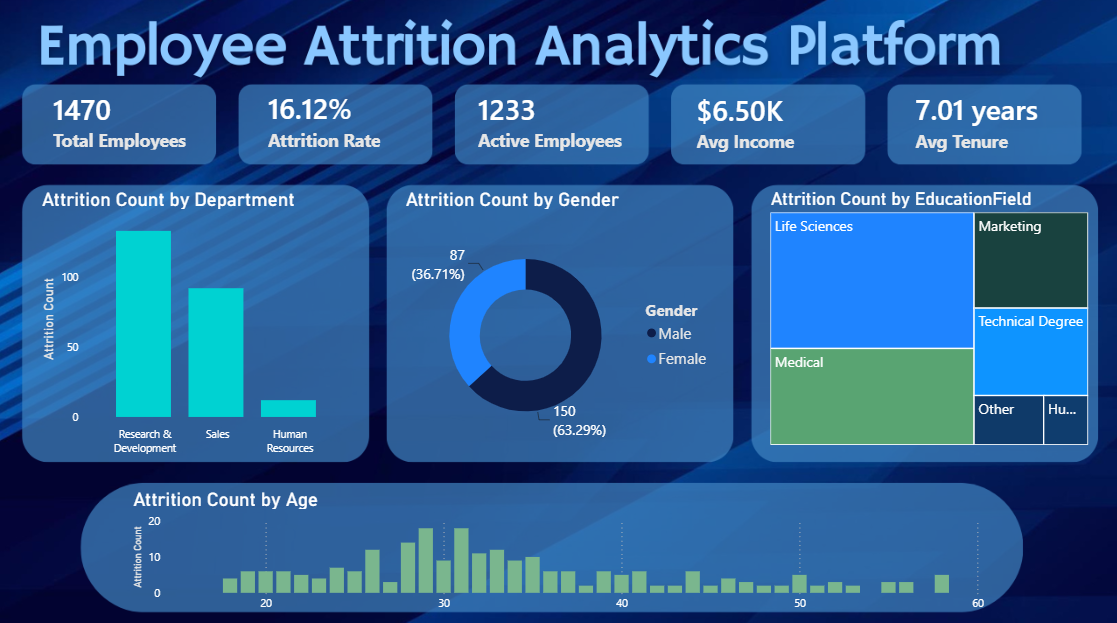

What the dashboard file says about the page in this screenshot:
{"tool":"powerbi","page":{"name":"Overview","canvas":[1280,720],"ordinal":0},"visuals":[{"type":"cardVisual","fields":{"Data":["ibm_data dim_employee.Total Employees"]},"box":[31.4,88.6,245.7,102.9],"z":0},{"type":"cardVisual","fields":{"Data":["ibm_data dim_employee.Active Employees"]},"box":[517.1,30,325.7,221.4],"z":1000},{"type":"cardVisual","fields":{"Data":["ibm_data dim_employee.Attrition Rate"]},"box":[277.1,25.7,337.1,228.6],"z":2000},{"type":"cardVisual","fields":{"Data":["ibm_data dim_employee.Avg Income"]},"box":[767.1,38.6,334.3,205.7],"z":3000},{"type":"donutChart","fields":{"Category":["ibm_data dim_employee.Gender"],"Y":["ibm_data dim_employee.Attrition Count"]},"box":[458.6,217.1,364.3,312.9],"z":4000},{"type":"clusteredColumnChart","fields":{"Category":["ibm_data dim_job_role.Department"],"Y":["ibm_data dim_employee.Attrition Count"]},"box":[42.9,217.1,360,312.9],"z":5000},{"type":"cardVisual","fields":{"Data":["ibm_data dim_employee.Avg Tenure"]},"box":[1017.1,37.1,231.4,207.1],"z":6000},{"type":"treemap","fields":{"Group":["ibm_data dim_employee.EducationField"],"Values":["ibm_data dim_employee.Attrition Count"]},"box":[875.7,217.1,372.9,298.6],"z":7000},{"type":"clusteredColumnChart","fields":{"Category":["ibm_data dim_employee.Age"],"Y":["ibm_data dim_employee.Attrition Count"]},"box":[147.1,560,984.3,150],"z":8000}]}

Visuals, with their boxes in screenshot pixels (x1, y1, x2, y2), scaled from the page's 1280x720 canvas onto the 1117x623 screenshot:
cardVisual - ibm_data dim_employee.Total Employees: pyautogui.locateOnScreen(27, 77, 242, 166)
cardVisual - ibm_data dim_employee.Active Employees: pyautogui.locateOnScreen(451, 26, 735, 218)
cardVisual - ibm_data dim_employee.Attrition Rate: pyautogui.locateOnScreen(242, 22, 536, 220)
cardVisual - ibm_data dim_employee.Avg Income: pyautogui.locateOnScreen(669, 33, 961, 211)
donutChart - ibm_data dim_employee.Gender x ibm_data dim_employee.Attrition Count: pyautogui.locateOnScreen(400, 188, 718, 459)
clusteredColumnChart - ibm_data dim_job_role.Department x ibm_data dim_employee.Attrition Count: pyautogui.locateOnScreen(37, 188, 352, 459)
cardVisual - ibm_data dim_employee.Avg Tenure: pyautogui.locateOnScreen(888, 32, 1090, 211)
treemap - ibm_data dim_employee.EducationField x ibm_data dim_employee.Attrition Count: pyautogui.locateOnScreen(764, 188, 1090, 446)
clusteredColumnChart - ibm_data dim_employee.Age x ibm_data dim_employee.Attrition Count: pyautogui.locateOnScreen(128, 485, 987, 614)
